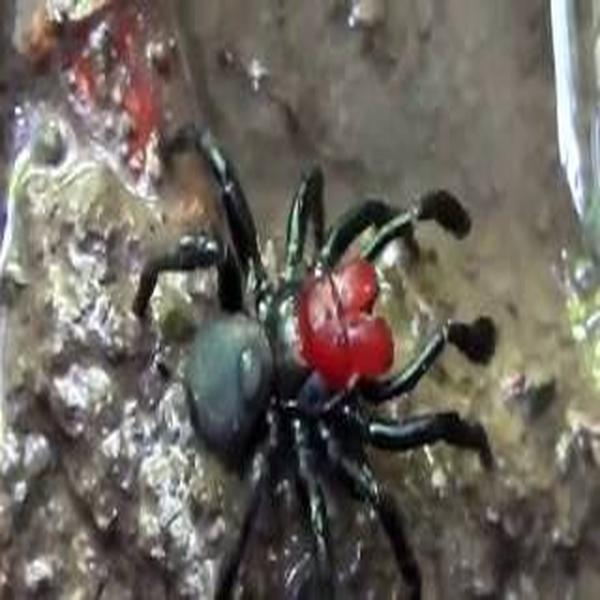Red Headed Mouse Spider: (141, 148, 495, 581)
